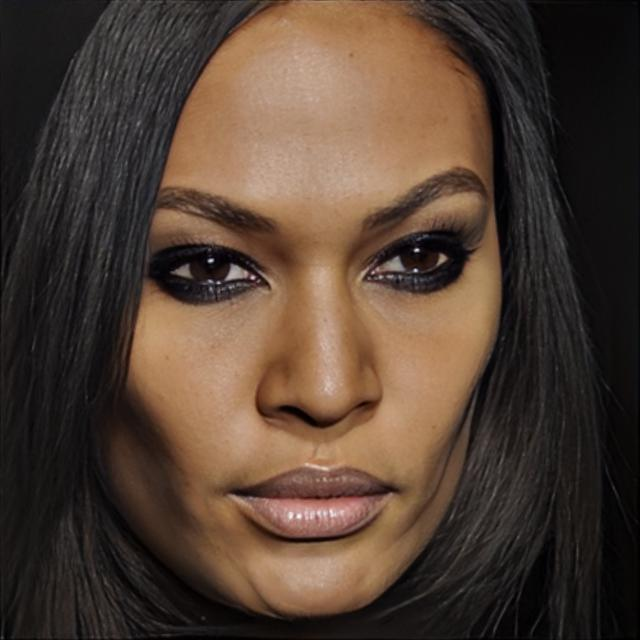anger: (109, 39, 508, 615)
